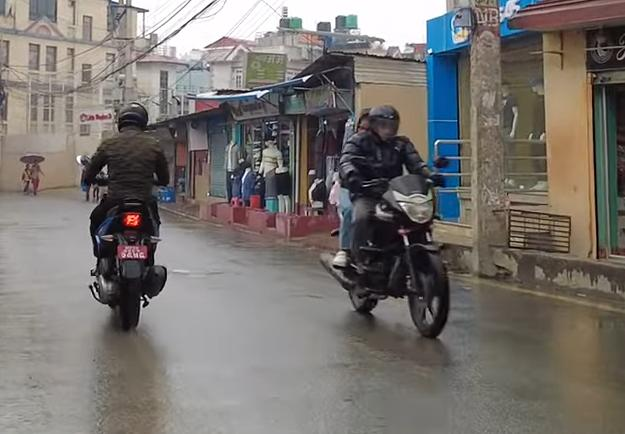bike: (318, 155, 457, 340), (76, 151, 178, 334)
